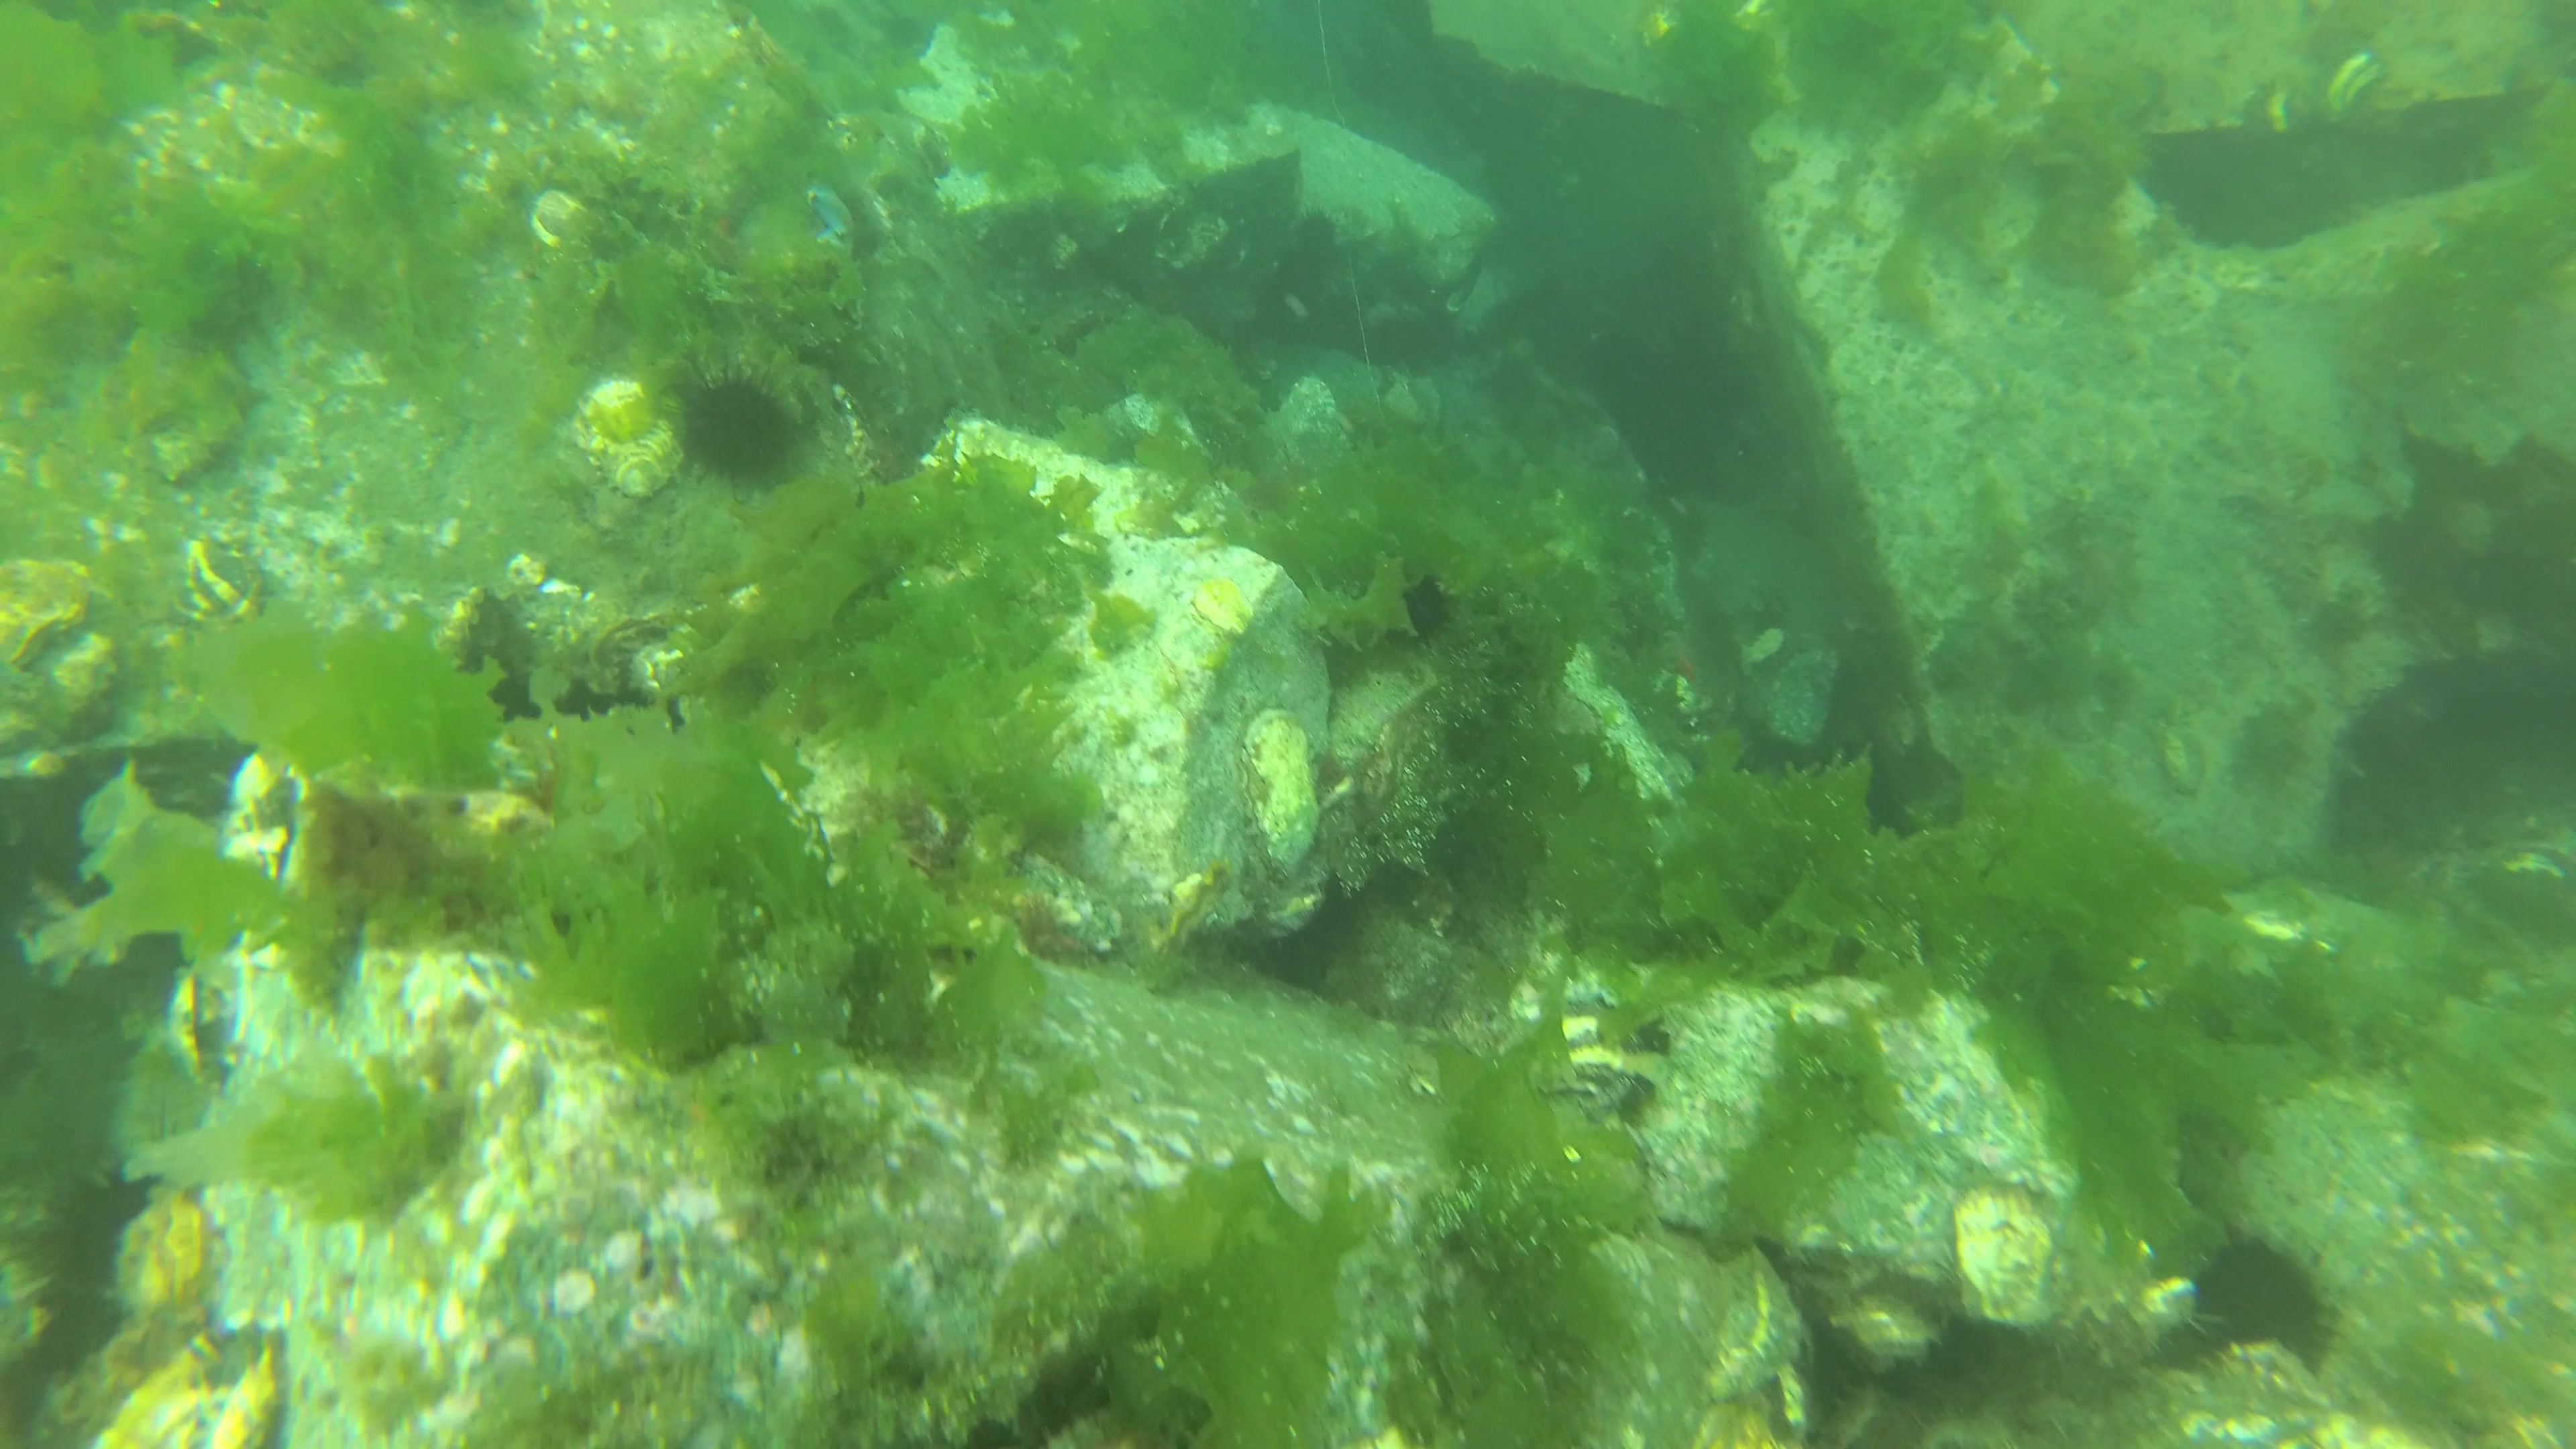echinus: (2187, 1215, 2337, 1369), (667, 354, 805, 495), (1401, 573, 1454, 648), (1295, 205, 1338, 264)
starfish: (805, 180, 858, 257)
